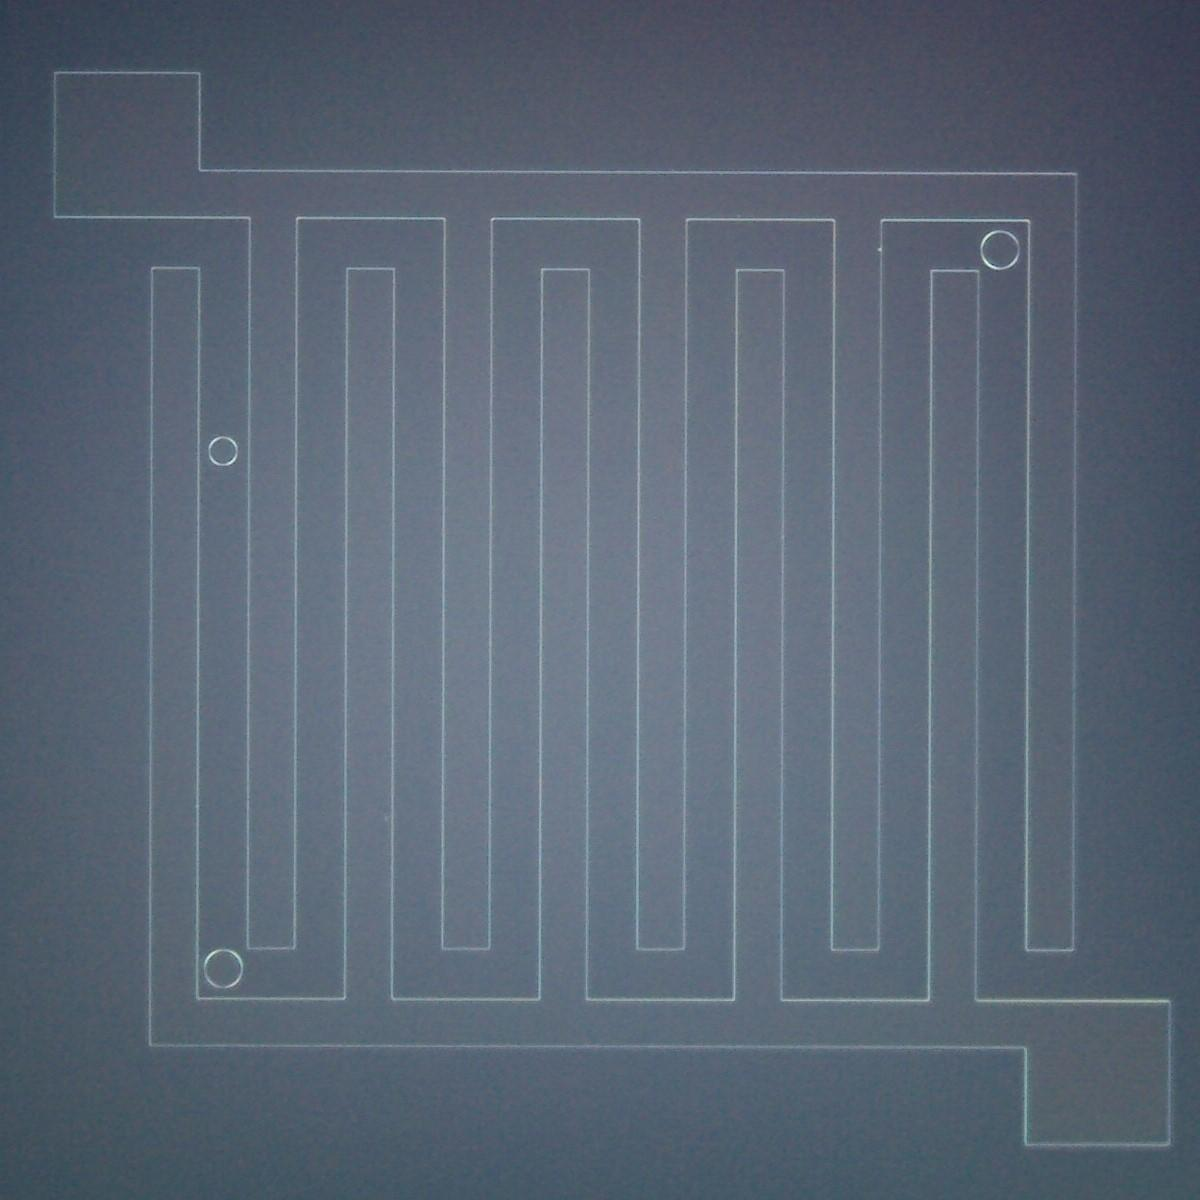circle: (201, 945, 244, 992), (978, 227, 1020, 274), (207, 433, 238, 467)
s_point: (875, 246, 884, 254)
